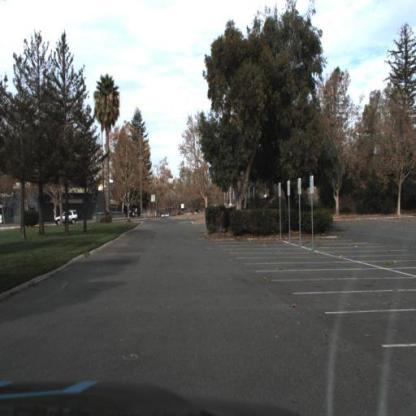car: (55, 207, 82, 226)
